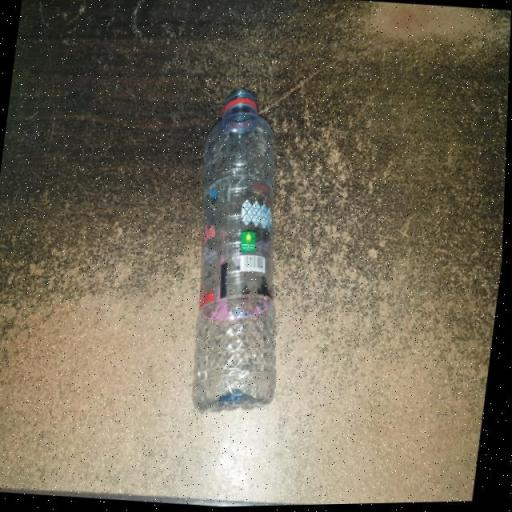plastic: (170, 79, 315, 420)
